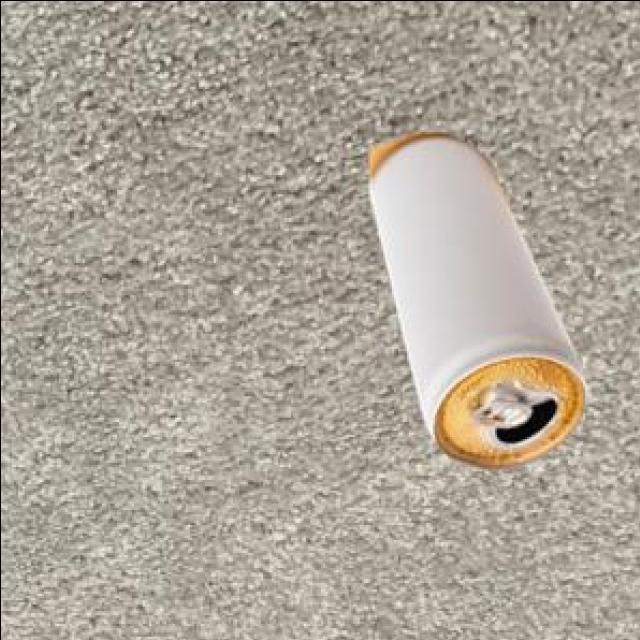logam: (366, 136, 583, 474)
